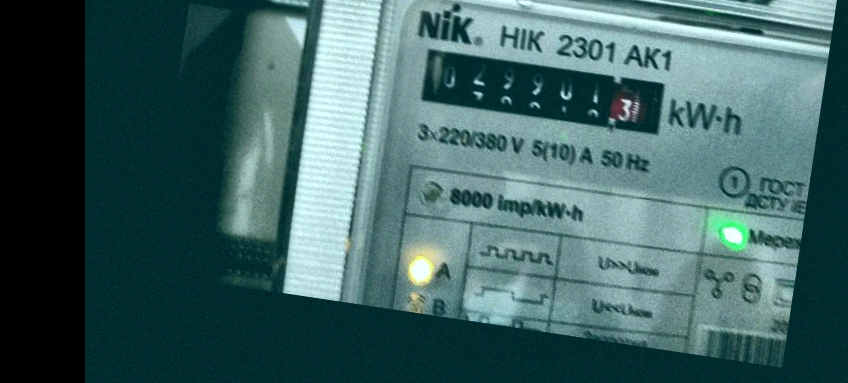0: (439, 60, 461, 89), (557, 71, 577, 102)
1: (588, 75, 605, 105)
2: (469, 58, 491, 88)
3: (615, 94, 635, 122)
9: (499, 63, 519, 92), (529, 68, 546, 97)
screen: (410, 36, 678, 146)
